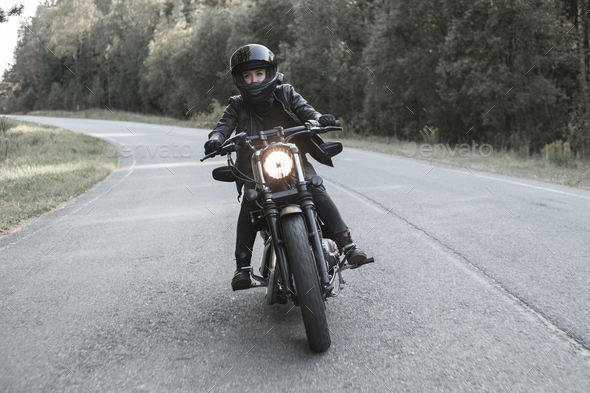motorcycle: (201, 120, 382, 357)
